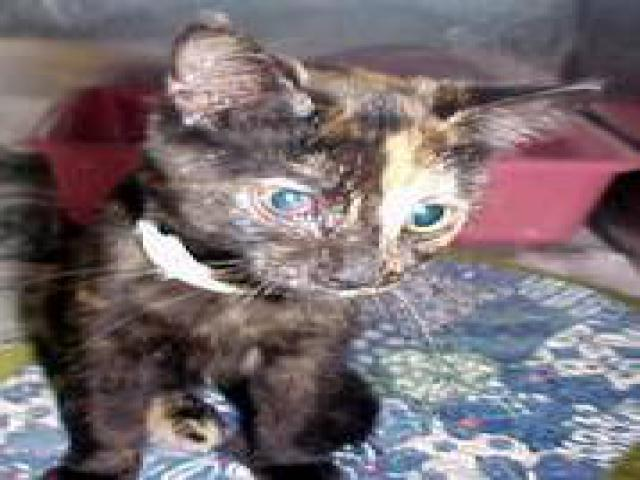cat: (41, 27, 595, 469)
